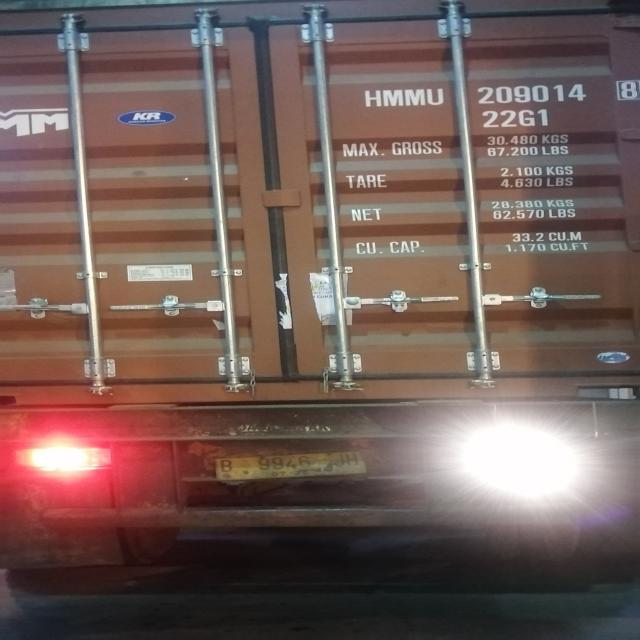seal: (388, 296, 411, 312)
